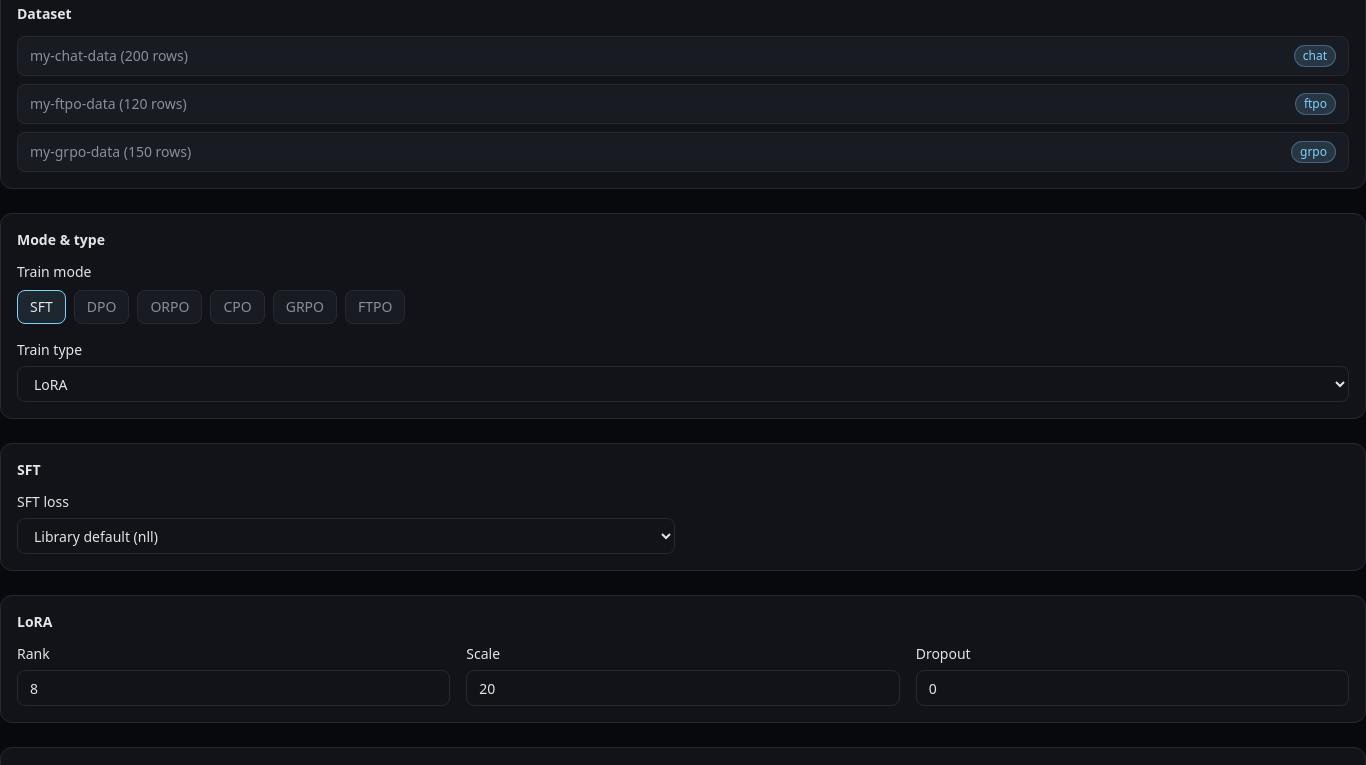
Test: TrainConfigForm › shows the LoRA section for train_type=lora and hides it for train_type=full
(page scrolled)
Expected: the text "my-chat-data (200 rows)" is shown, left=30, top=46, right=188, bottom=66
Expected: the number field labelled "Rank" is shown, left=17, top=670, right=450, bottom=706
Select "Full fine-tune" in the dropdown labelled "Train type" at x=683, y=384, box left=17, top=366, right=1349, bottom=402
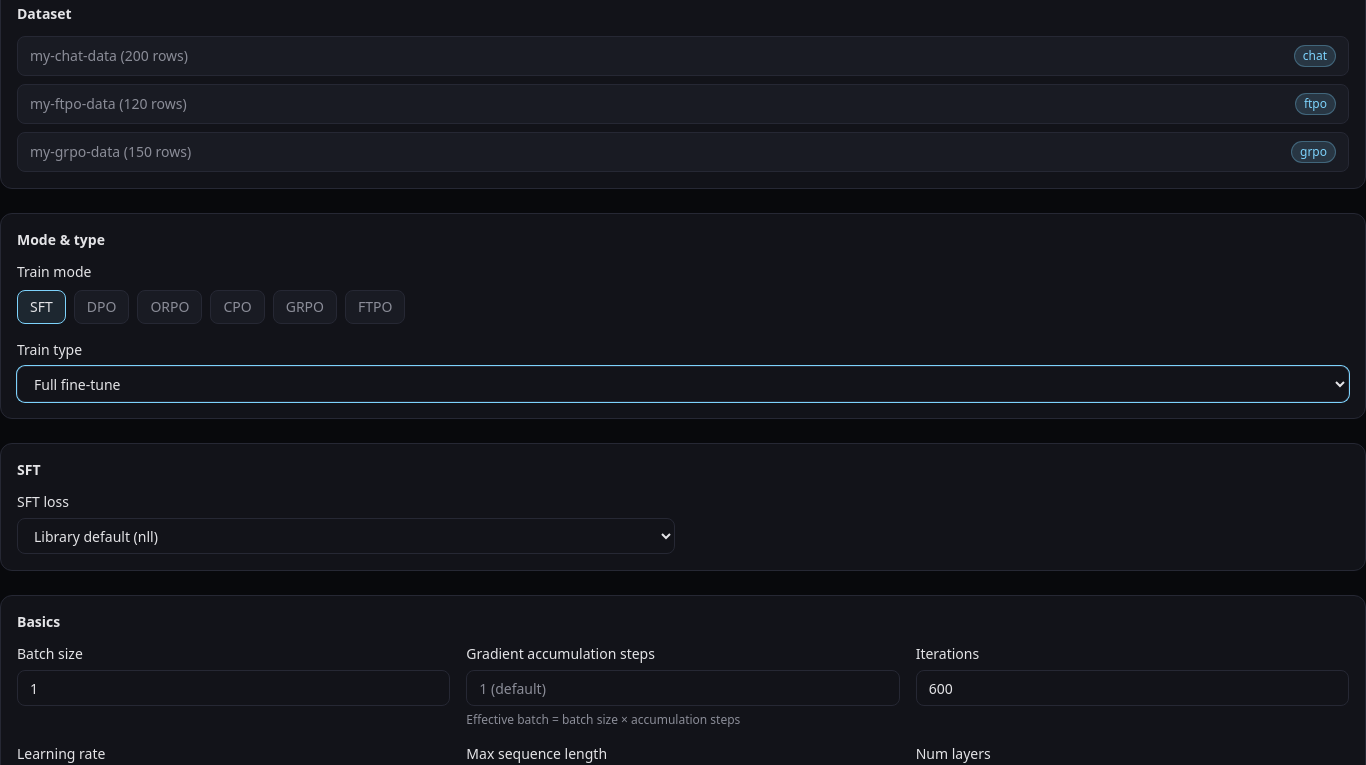
Now the label labelled "Rank" is gone
Now the label labelled "Scale" is gone
Now the label labelled "Dropout" is gone
